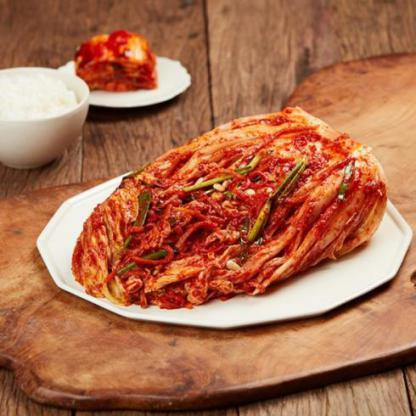kimchi: (44, 99, 397, 320)
